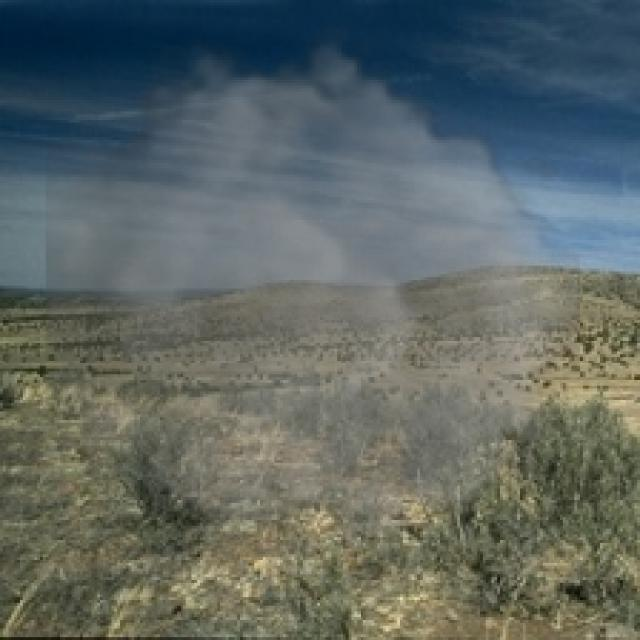Smoke: (46, 19, 580, 572)
